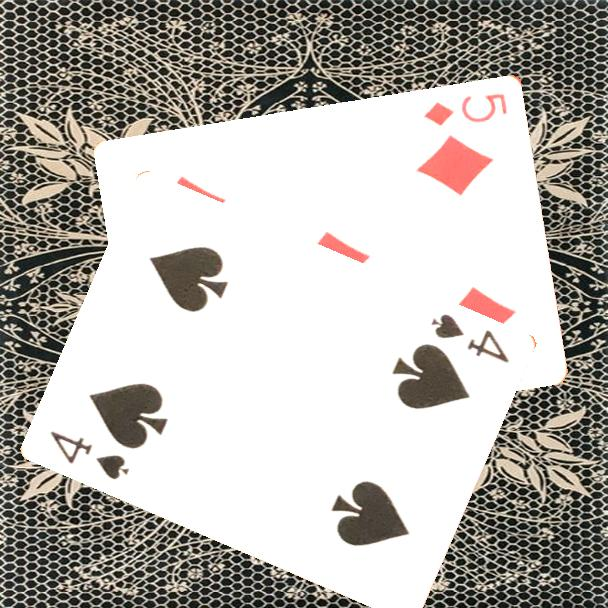d05: (421, 89, 511, 128)
s04: (47, 427, 133, 483), (428, 310, 513, 366)
